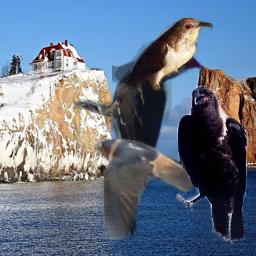Crow: (176, 85, 249, 245)
Cuckoo: (112, 17, 213, 91)
Swallow: (94, 134, 205, 240)
Woodpecker: (73, 40, 207, 239)
